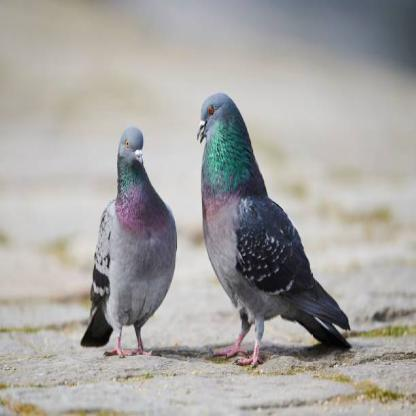Rock Pigeon: (197, 90, 355, 360), (79, 119, 181, 358)
